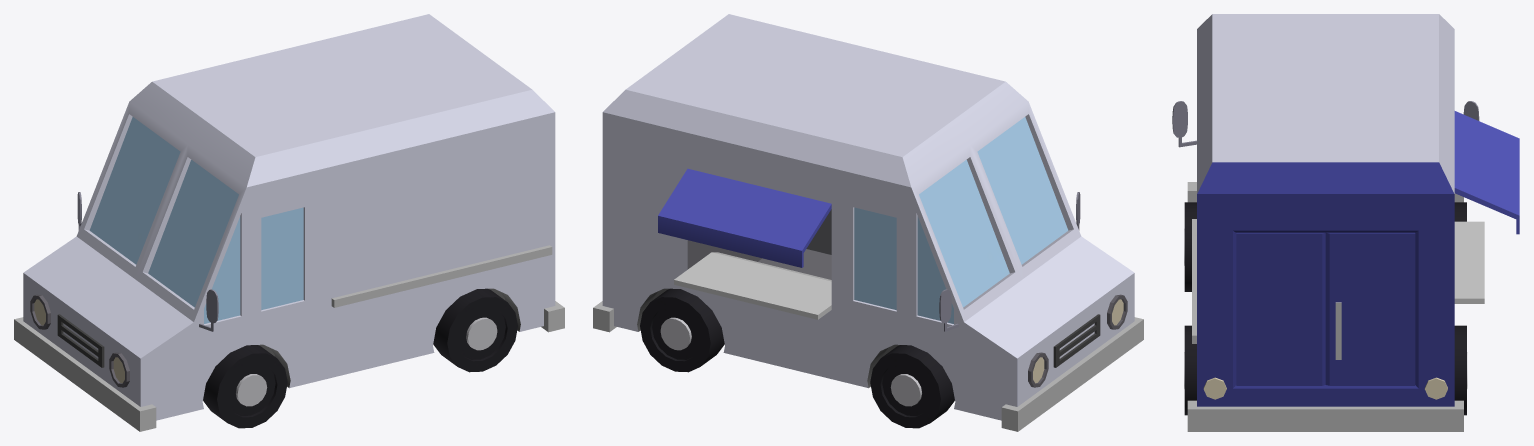
The model's file is foodtruck02.fbx.
The picture shows the model from 3 angles, left to right: view 1: azimuth 30°, elevation 25°; view 2: azimuth 150°, elevation 25°; view 3: azimuth 270°, elevation 25°; orthographic projection. The views are drawn at different scales.
Visible parts, largest first — view 1: fbx_foodtruck02; view 2: fbx_foodtruck02; view 3: fbx_foodtruck02.
Boxes of the visible parts, bbox=[...] form: fbx_foodtruck02: bbox=[14, 14, 564, 431]; fbx_foodtruck02: bbox=[593, 14, 1143, 431]; fbx_foodtruck02: bbox=[1172, 14, 1519, 431].
Bounding box in the file's own units: 5.78 × 3.35 × 3.73.
1 material, 1 textured.
